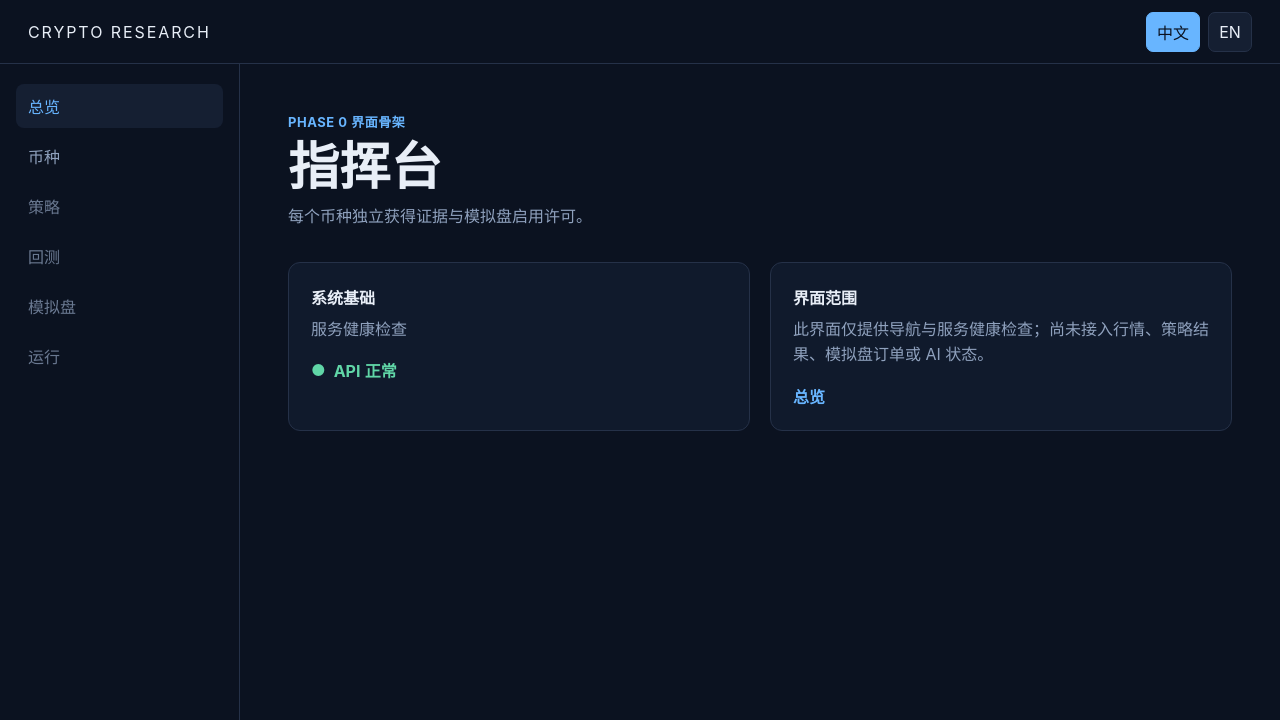
Test: persists an explicit English selection and updates the document language
Click the button with aria-label "切换为英文": (1230, 32) [1208,12,1252,52]
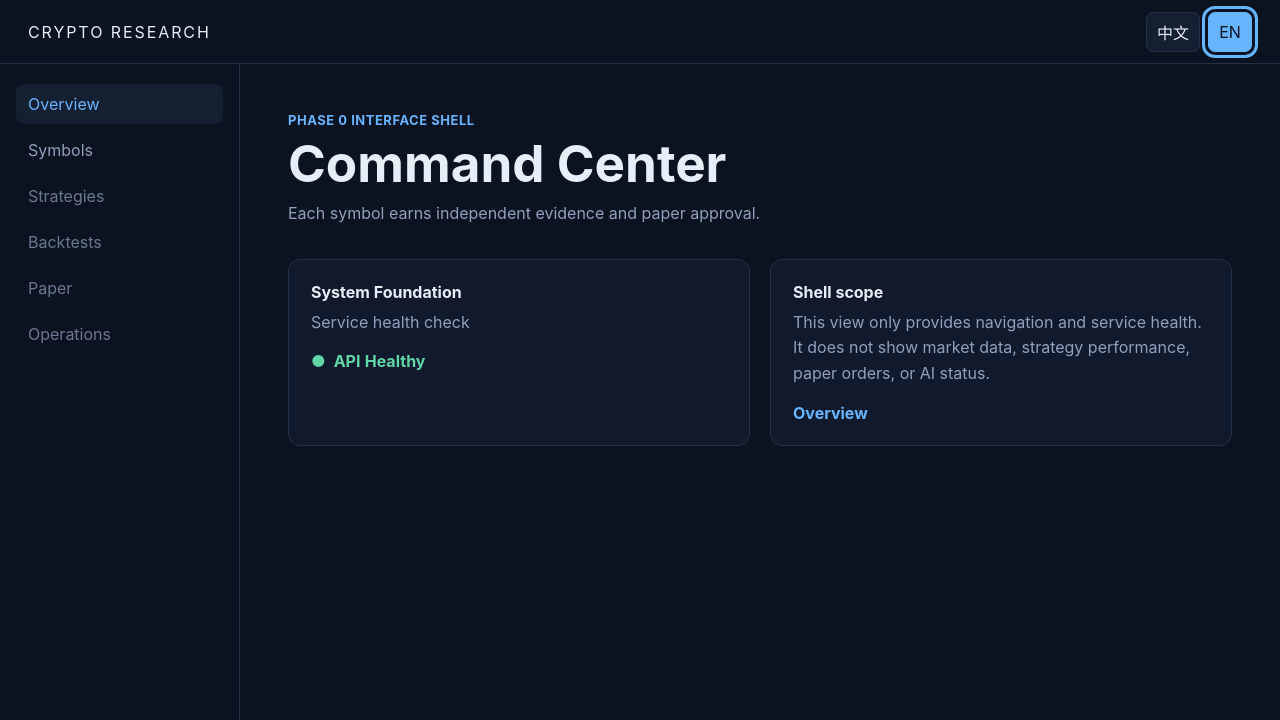
expect the heading "Command Center" is shown: met, box [288,132,726,194]
